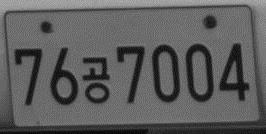0: (184, 43, 217, 101), (151, 42, 181, 102)
4: (217, 41, 249, 101)
6: (47, 46, 79, 104)
7: (114, 44, 148, 103), (13, 46, 44, 106)
공: (81, 55, 112, 105)
